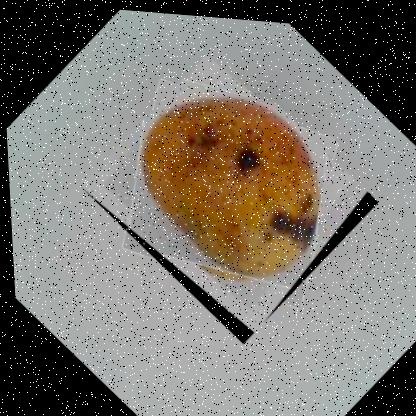mango_rotten: (71, 29, 383, 348)
